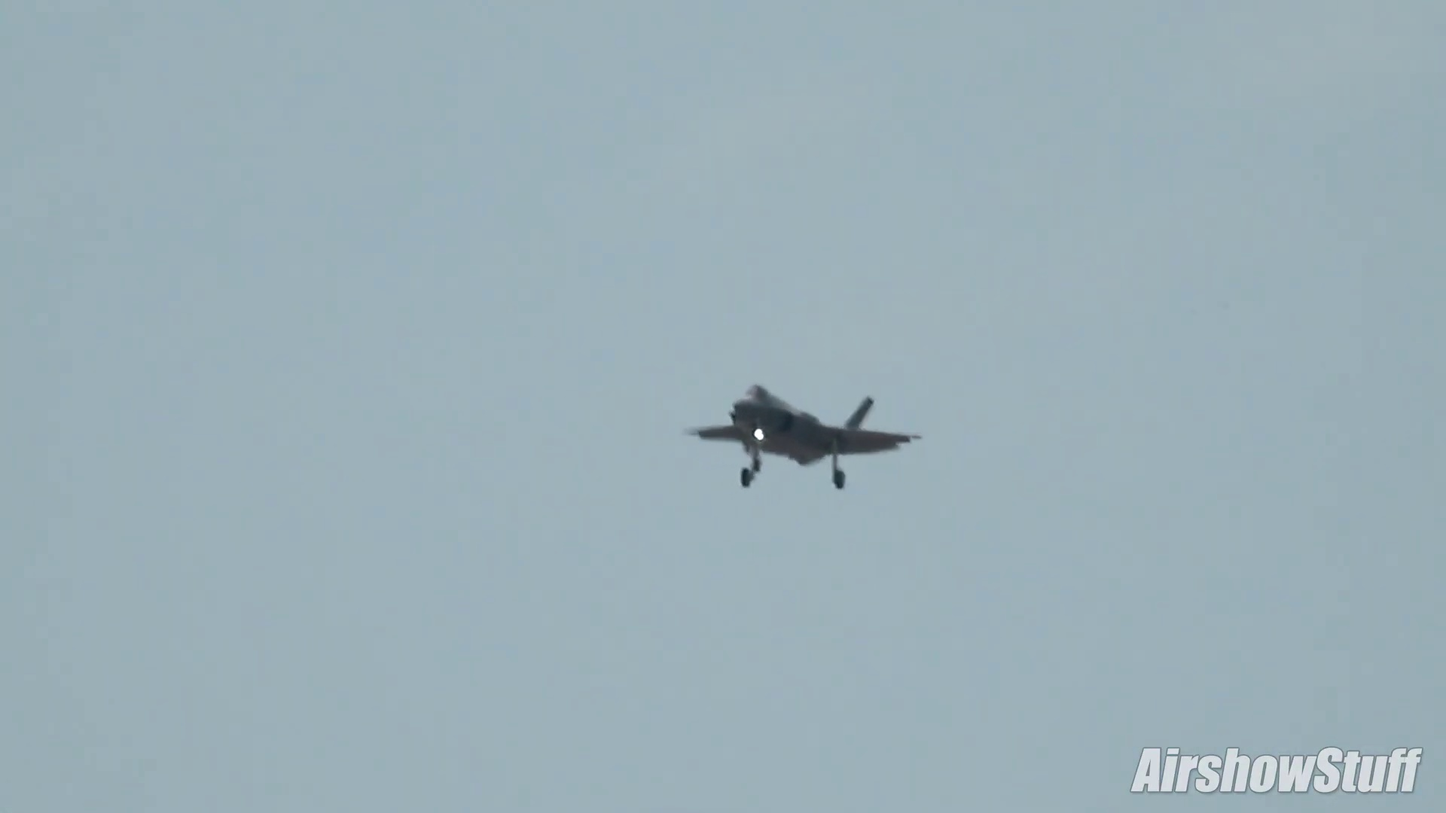F35: (676, 370, 928, 514)
